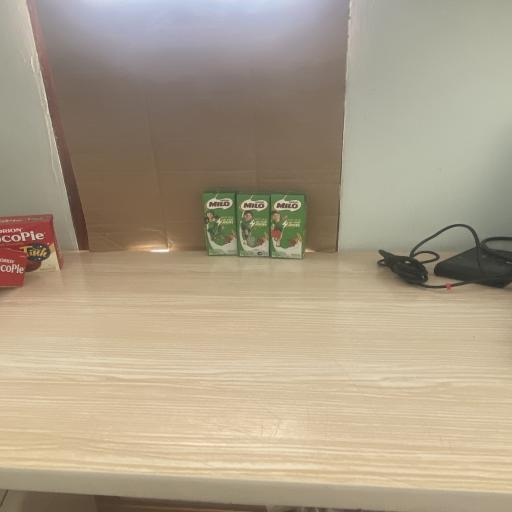chocopie: (0, 214, 63, 272), (0, 248, 28, 288)
milo: (270, 192, 307, 260), (202, 189, 238, 257), (236, 191, 272, 258)
